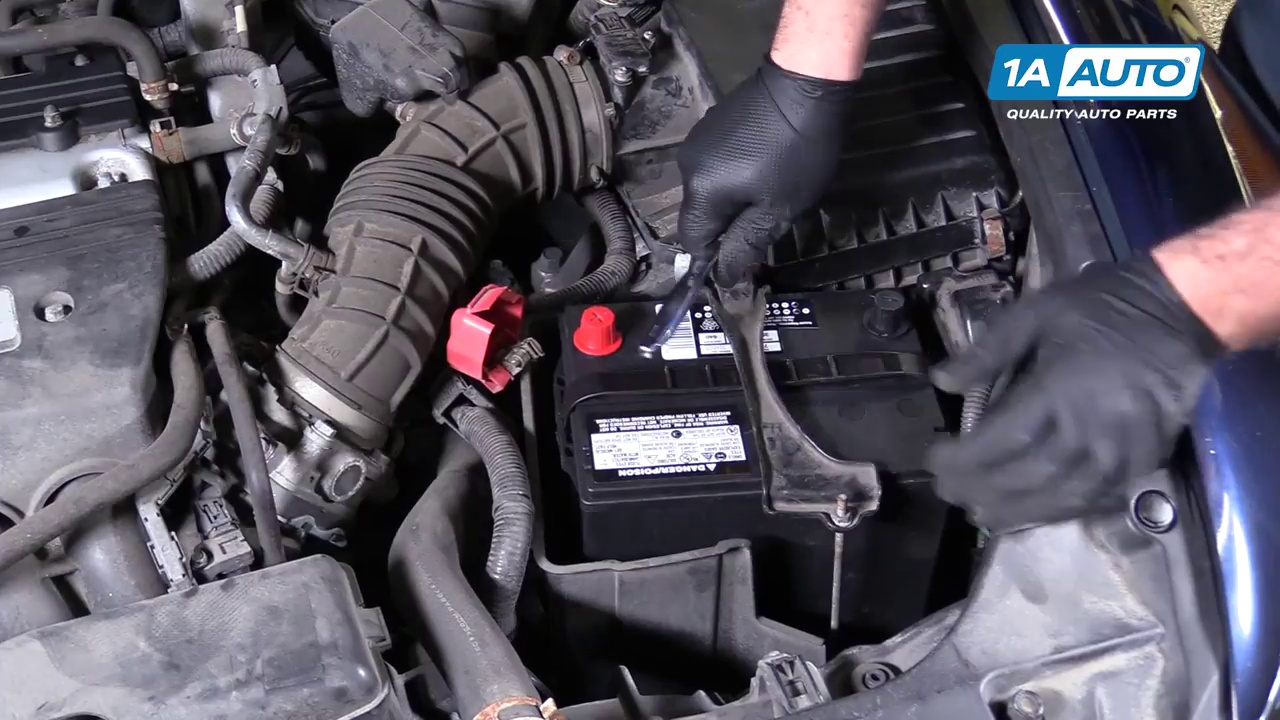battery: (560, 302, 956, 494)
pos_disconnected: (431, 262, 629, 379)
